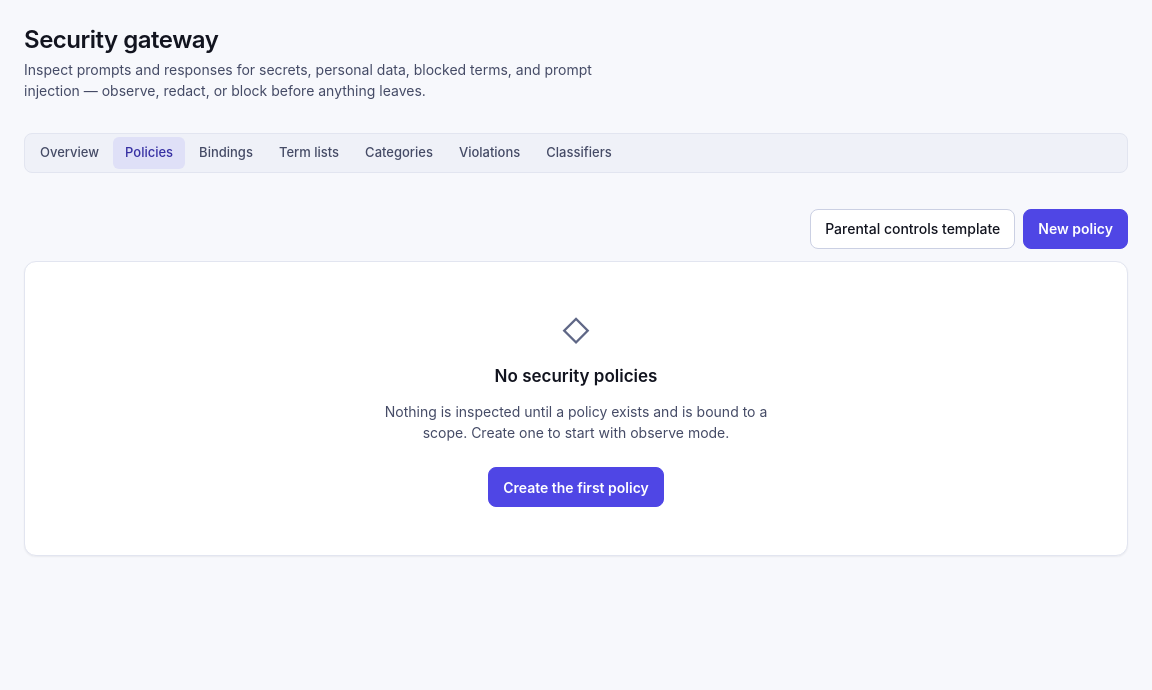
Test case: Business upsells › greys out Redact/Block on Community with the reason, and leaves Observe
What coordinates should you click on to do the following:
click the button "New policy"
I would click on:
 (1076, 229)
Its box is 1023,209 -> 1128,249.
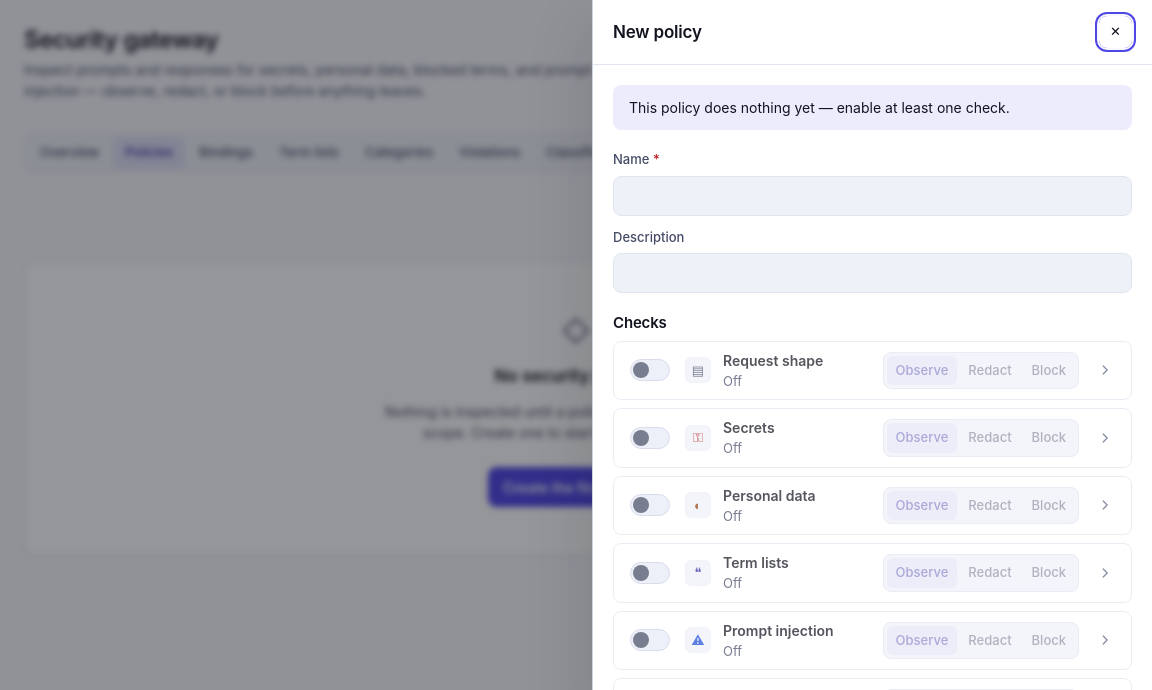
What coordinates should you click on to do the following:
click the checkbox named "Secrets: Enabled"
I would click on:
 (650, 438)
Its box is 630,427 -> 670,449.
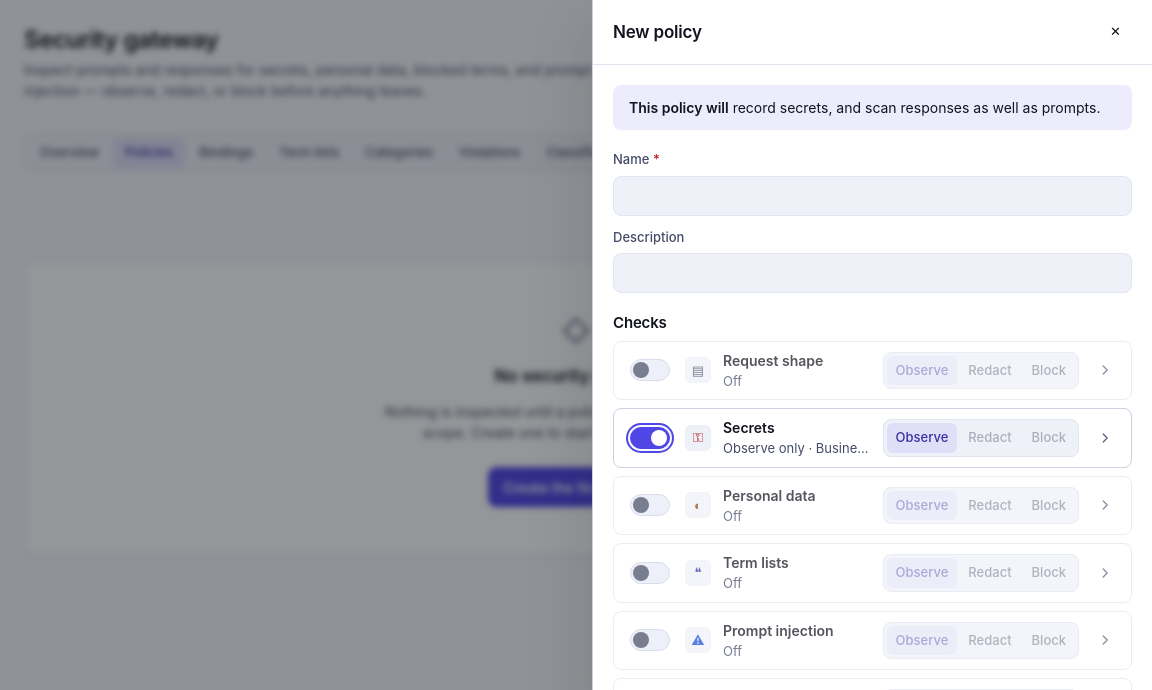
Now the button "Block" in the row of "Observe only · Business" is disabled, box 1023,423 -> 1075,452
Now the button "Observe" next to "Observe only · Business" is enabled, box 887,423 -> 957,452
